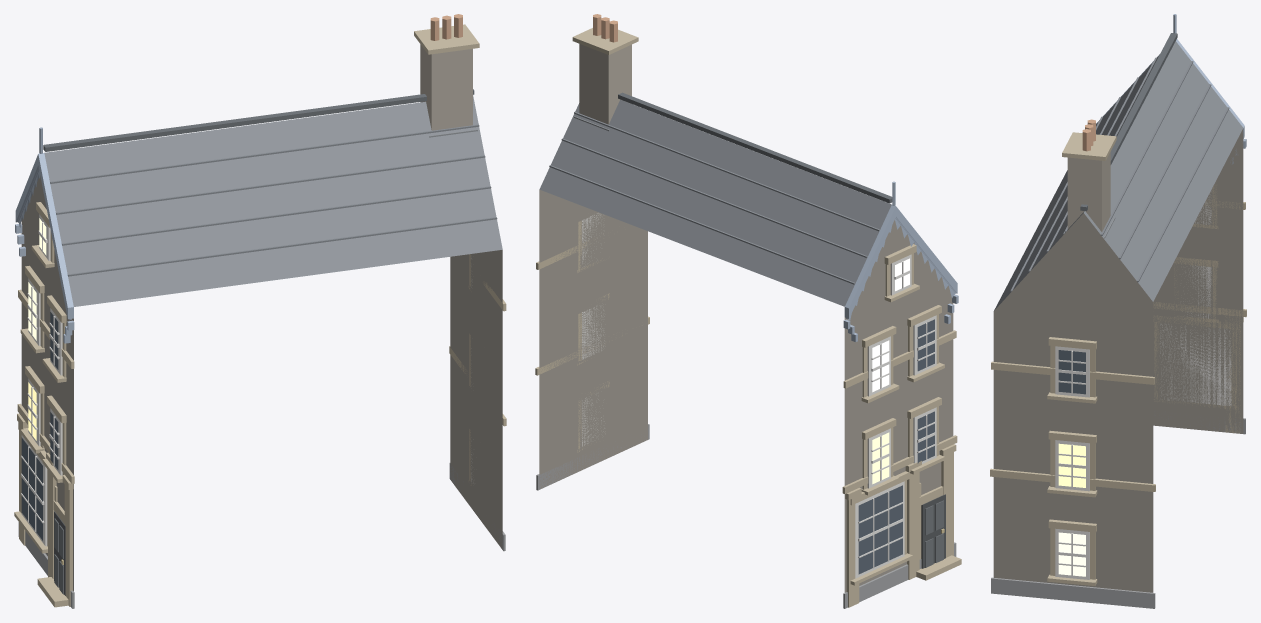
3 renders of one model, left to right at view 1: azimuth 30°, elevation 25°; view 2: azimuth 150°, elevation 25°; view 3: azimuth 270°, elevation 25°, orthographic. The views are drawn at different scales.
Visible parts, largest first — view 1: slate_lt, plaque, ss_joint, chim_stone, frame, slate_dk, windows, bargeboard_blue, plinth, pot; view 2: plaque, slate_lt, ss_joint, windows, frame, chim_stone, bargeboard_blue, slate_dk, plinth, door_dark_p, door_dark; view 3: plaque, slate_lt, ss_joint, frame, windows, plinth, chim_stone, slate_dk, bargeboard_blue, pot.
Part boxes in pixels (<box>): slate_lt: <box>44,95,502,306</box>; plaque: <box>21,175,502,591</box>; ss_joint: <box>14,24,506,607</box>; chim_stone: <box>420,44,472,130</box>; frame: <box>21,214,473,546</box>; slate_dk: <box>43,89,474,151</box>; windows: <box>21,218,58,540</box>; bargeboard_blue: <box>15,127,74,343</box>; plinth: <box>18,463,505,608</box>; pot: <box>430,14,462,40</box>; plaque: <box>539,189,953,592</box>; slate_lt: <box>539,99,891,306</box>; ss_joint: <box>535,28,961,607</box>; windows: <box>858,258,934,574</box>; frame: <box>582,213,936,578</box>; chim_stone: <box>579,44,631,124</box>; bargeboard_blue: <box>843,181,958,342</box>; slate_dk: <box>618,92,892,203</box>; plinth: <box>536,424,956,608</box>; door_dark_p: <box>925,500,943,567</box>; door_dark: <box>921,494,945,568</box>; plaque: <box>993,129,1243,592</box>; slate_lt: <box>994,41,1243,310</box>; ss_joint: <box>990,132,1246,585</box>; frame: <box>1055,191,1231,579</box>; windows: <box>1058,350,1085,576</box>; plinth: <box>991,411,1245,608</box>; chim_stone: <box>1067,152,1110,231</box>; slate_dk: <box>1080,33,1177,211</box>; bargeboard_blue: <box>1096,14,1246,164</box>; pot: <box>1082,119,1095,151</box>.
Bounding box in the file's own units: 12.6 × 13.87 × 6.96.
